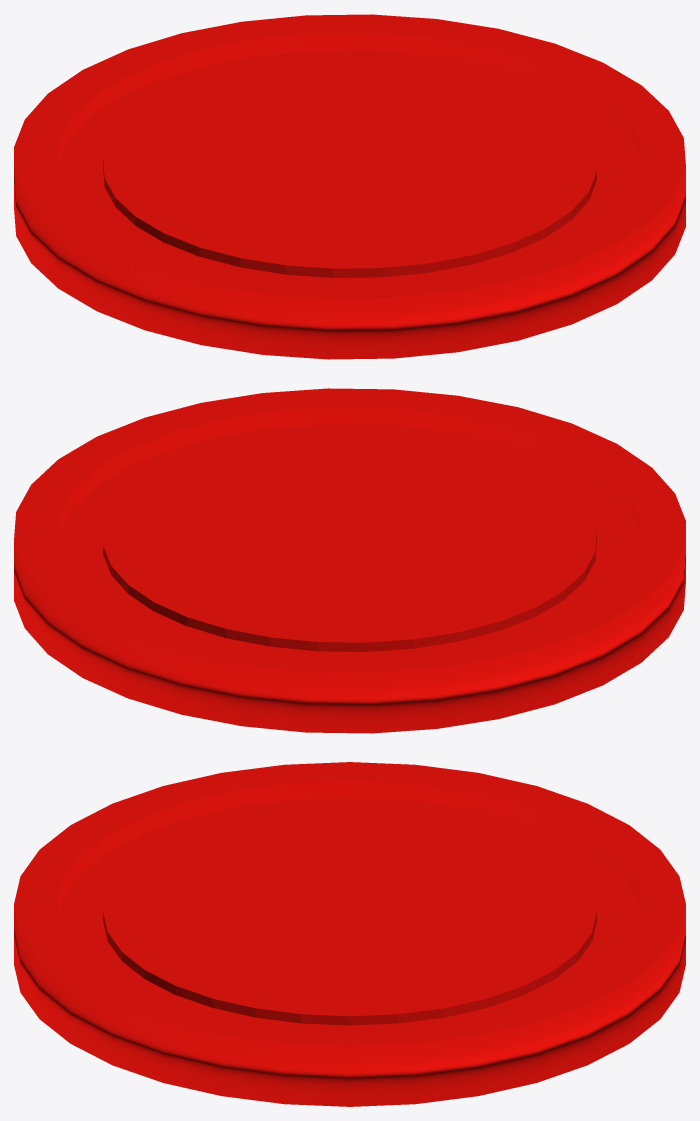
Rendered from disc.fbx.
3 renders of one model, top to bottom at view 1: azimuth 30°, elevation 25°; view 2: azimuth 150°, elevation 25°; view 3: azimuth 270°, elevation 25°, orthographic.
Visible parts, largest first — view 1: Cylinder; view 2: Cylinder; view 3: Cylinder.
Boxes of the visible parts, x1=… form: Cylinder: x1=14, y1=14, x2=685, y2=359; Cylinder: x1=14, y1=388, x2=685, y2=733; Cylinder: x1=14, y1=762, x2=685, y2=1106.
Size of the model in its own units: 100 by 10 by 100.
